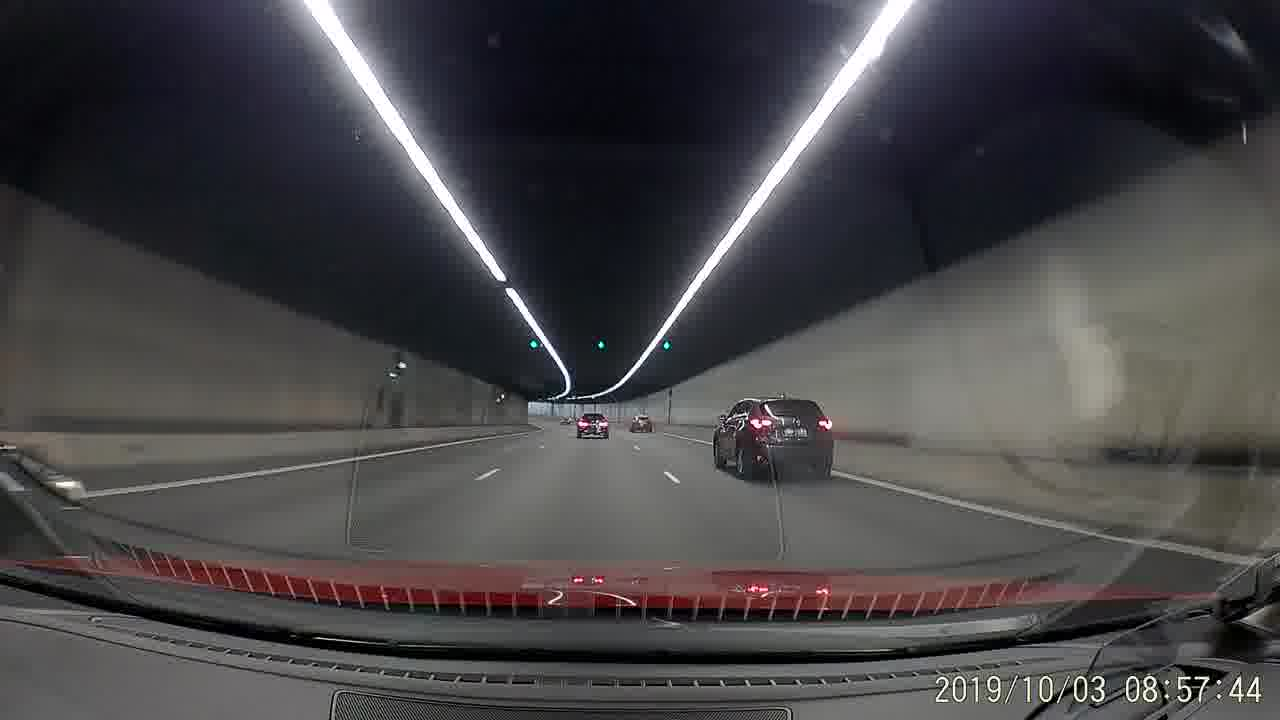car: (709, 391, 836, 488), (573, 411, 609, 440), (629, 414, 651, 432)
